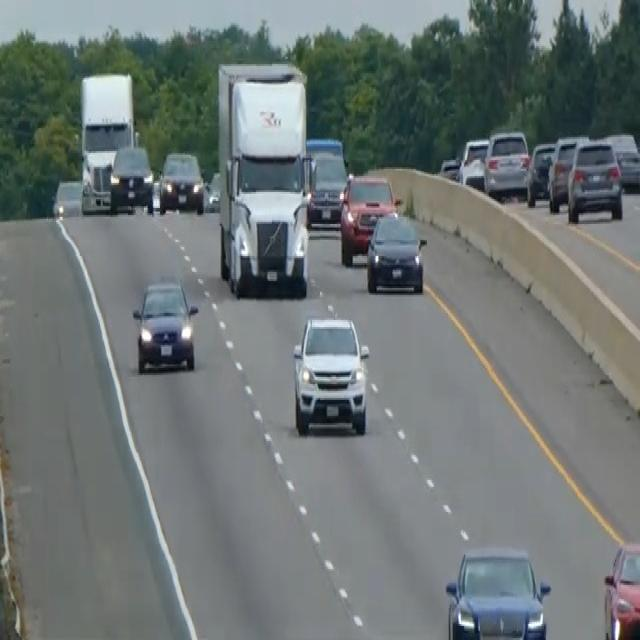car: (444, 544, 551, 638), (131, 276, 199, 374), (339, 171, 400, 265), (365, 210, 427, 293), (566, 137, 623, 222), (602, 539, 639, 638), (546, 134, 588, 212), (306, 147, 348, 225), (484, 128, 530, 199), (109, 142, 154, 214), (158, 150, 204, 213), (602, 130, 639, 190), (525, 139, 556, 206), (80, 150, 112, 213), (457, 135, 489, 190), (51, 178, 83, 218), (306, 135, 345, 162), (204, 169, 221, 211), (439, 153, 461, 181)
jeep: (289, 309, 372, 439)
lorry: (215, 59, 313, 298), (78, 68, 136, 214)
